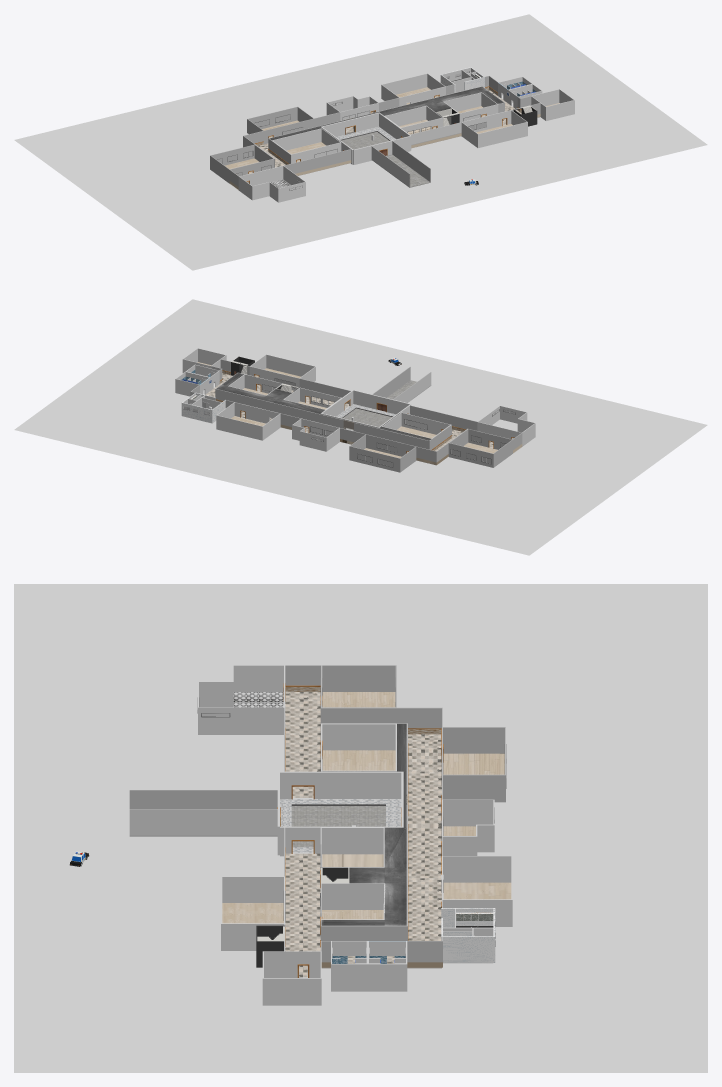
File: Modelo final colegio prueba V7.fbx
The picture shows the model from 3 angles, top to bottom: view 1: azimuth 30°, elevation 25°; view 2: azimuth 150°, elevation 25°; view 3: azimuth 270°, elevation 25°; orthographic projection. The views are drawn at different scales.
Visible parts, largest first — view 1: Plane, patio central, Salon Taller, Salon, Textura Superior Pared pasillo derecho .002, Textura Superior Pared pasillo derecho, Salon 1, Cube.003, Salon 3, Salon 2, salon.009, Techo (+6 smaller); view 2: Plane, Textura Superior Pared pasillo derecho, Textura Superior Pared pasillo derecho .002, patio central, Salon 3, Salon 1, salon.009, Salon Taller, Salon, Salon 4, Techo, Cube.003 (+6 smaller); view 3: Plane, patio central, Cube.003, Salon Taller, Salon 3, Salon, salon.009, pasillo derecho1, Techo, Salon 2, pasillo derecho, Textura Superior Pared pasillo derecho .002 (+12 smaller).
Boxes of the visible parts, x1,y1,x2,y2 form: Plane: (14,14,707,270); patio central: (321,112,411,164); Salon Taller: (238,165,305,202); Salon: (461,110,527,147); Textura Superior Pared pasillo derecho .002: (229,115,351,186); Textura Superior Pared pasillo derecho: (327,76,540,145); Salon 1: (210,144,274,183); Cube.003: (371,141,430,187); Salon 3: (247,106,314,144); Salon 2: (272,128,341,163); salon.009: (381,73,445,106); Techo: (269,86,503,141); Plane: (14,299,707,555); Textura Superior Pared pasillo derecho: (190,359,352,441); Textura Superior Pared pasillo derecho .002: (352,405,522,462); patio central: (321,390,411,430); Salon 3: (349,434,416,472); Salon 1: (448,429,512,467); salon.009: (216,402,280,440); Salon Taller: (477,405,535,446); Salon: (249,354,315,390); Salon 4: (292,418,339,451); Techo: (216,373,430,440); Cube.003: (372,366,431,402); Plane: (14,584,707,1072); patio central: (277,771,403,856); Cube.003: (129,790,277,836); Salon Taller: (197,665,285,734); Salon 3: (441,727,506,802); Salon: (221,876,285,950); salon.009: (441,856,512,926); pasillo derecho1: (387,826,441,968); Techo: (321,724,406,925); Salon 2: (320,723,396,771); pasillo derecho: (285,853,355,977); Textura Superior Pared pasillo derecho .002: (284,665,442,815).
Bounding box in the file's own units: 20000 × 550 × 12000.
